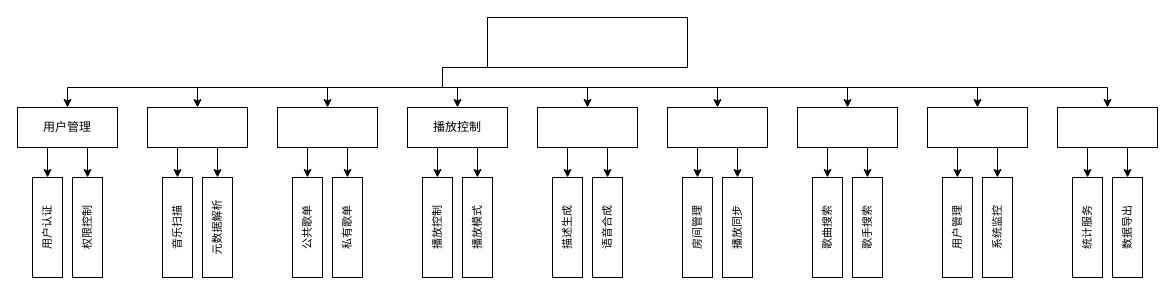
Some shapes in this 1175 by 295 pixel diagram are drawn without their labels. Each missing label, with the box of its shape:
AI 服务: (536, 106, 638, 148)
RLMusic 音乐管理系统: (486, 16, 688, 68)
一起听: (666, 106, 768, 148)
后台管理: (926, 106, 1028, 148)
搜索服务: (796, 106, 898, 148)
歌单管理: (276, 106, 378, 148)
系统服务: (1056, 106, 1158, 148)
音乐管理: (146, 106, 248, 148)
